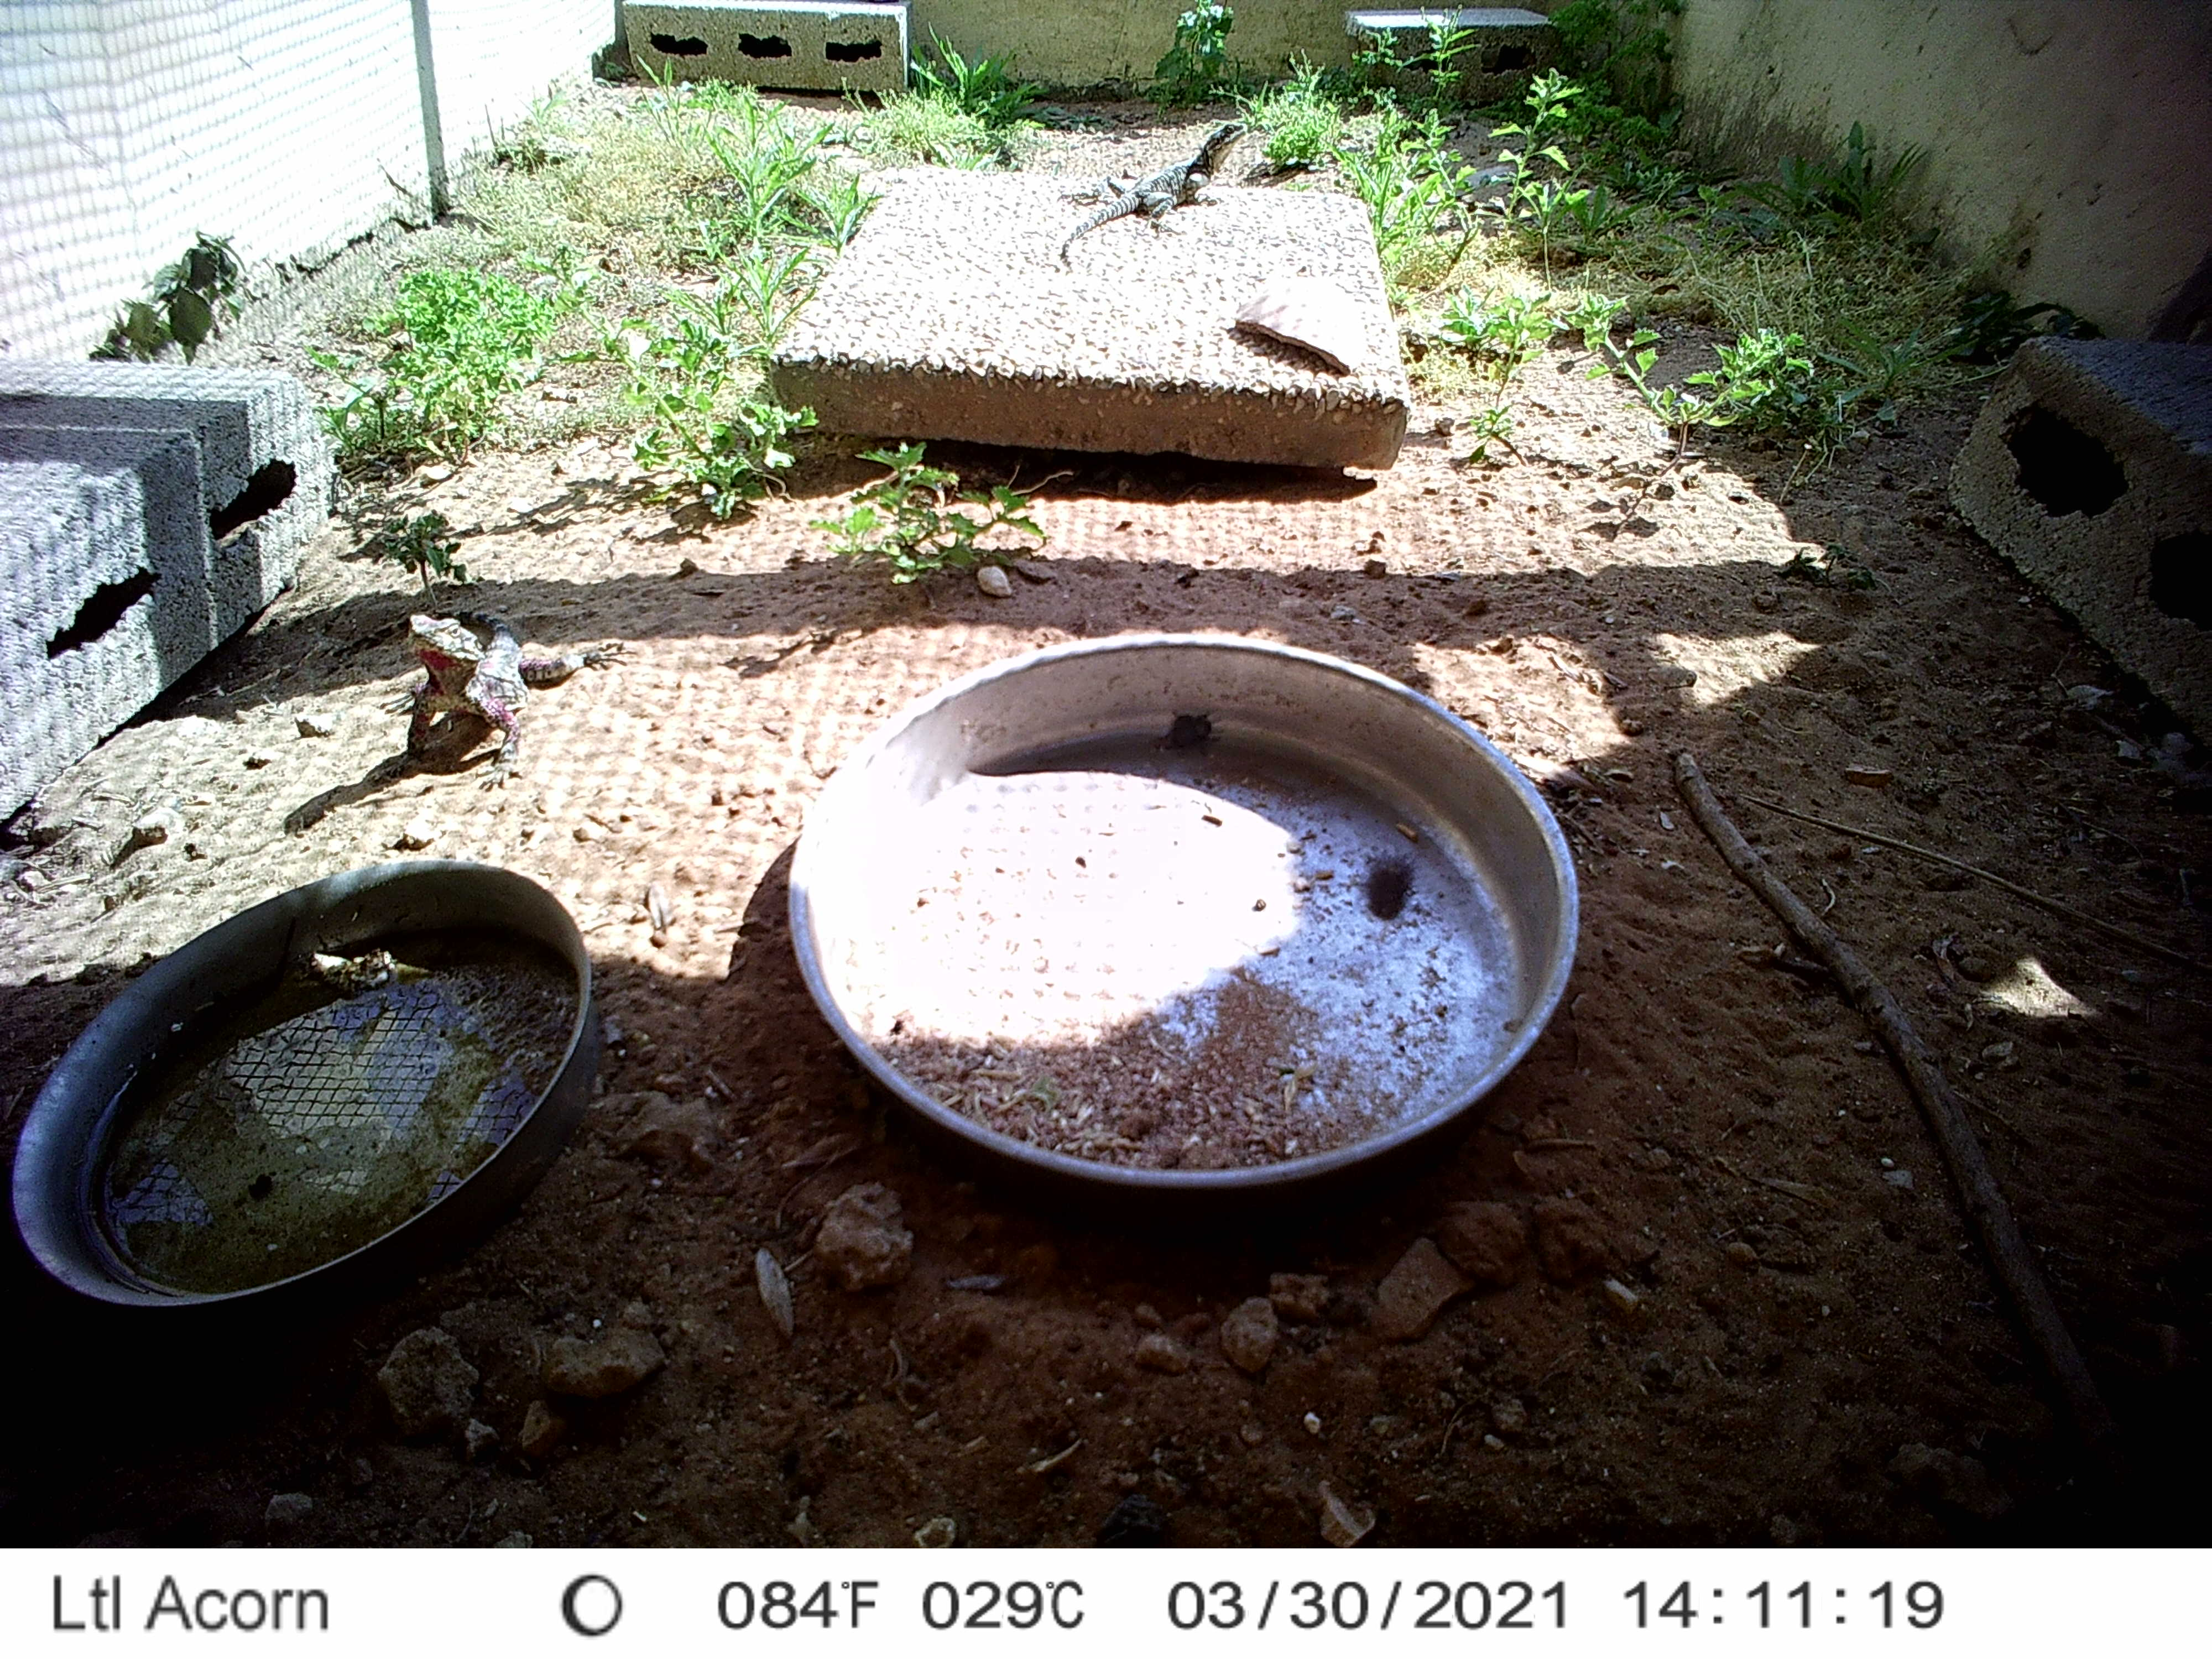lizard: (322, 608, 624, 791), (1052, 118, 1252, 260)
